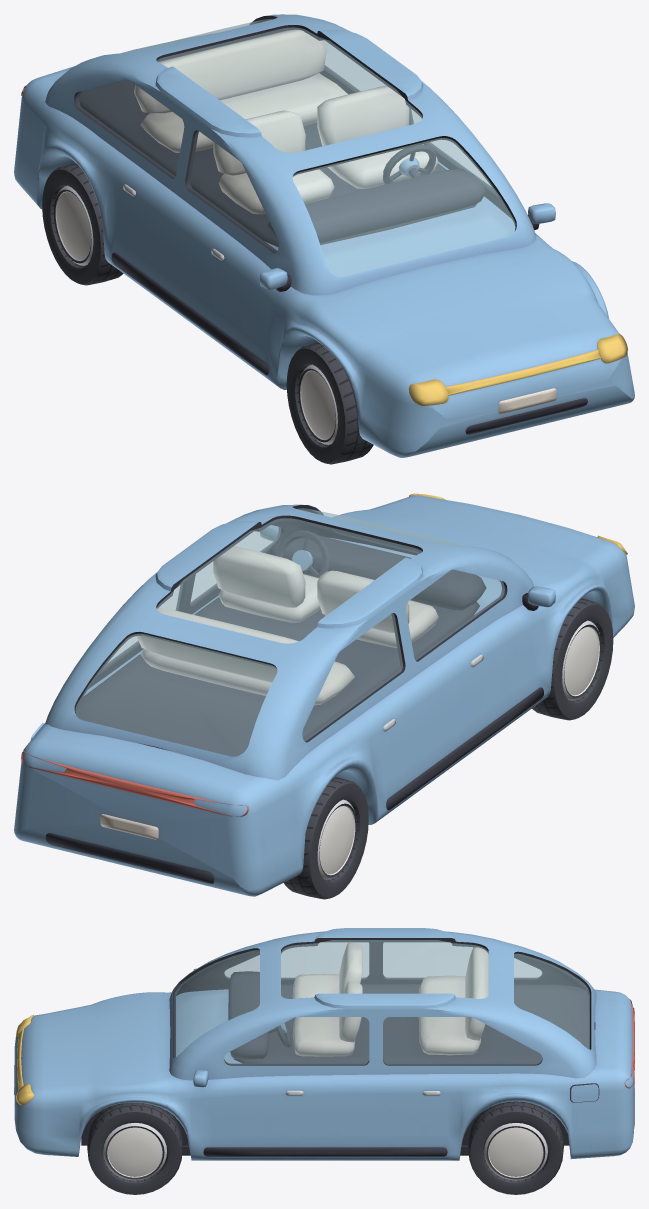
File: voltdragon.glb
3 renders of one model, top to bottom at view 1: azimuth 30°, elevation 25°; view 2: azimuth 150°, elevation 25°; view 3: azimuth 270°, elevation 25°, orthographic. The views are drawn at different scales.
Parts seen in each view (by area): view 1: electric-car_body, electric-car_windows, electric-car_wheel_fr, electric-car_wheel_rr; view 2: electric-car_body, electric-car_windows, electric-car_wheel_rr, electric-car_wheel_fr; view 3: electric-car_body, electric-car_windows, electric-car_wheel_rl, electric-car_wheel_fl, electric-car_charge_flap.
Part boxes in pixels (x1,y1,x2,y2): electric-car_body: [14, 14, 634, 457]; electric-car_windows: [76, 19, 515, 276]; electric-car_wheel_fr: [286, 342, 373, 464]; electric-car_wheel_rr: [42, 163, 123, 285]; electric-car_body: [14, 493, 634, 896]; electric-car_windows: [75, 508, 504, 756]; electric-car_wheel_rr: [284, 776, 368, 899]; electric-car_wheel_fr: [532, 598, 613, 720]; electric-car_body: [14, 928, 634, 1160]; electric-car_windows: [174, 940, 589, 1064]; electric-car_wheel_rl: [468, 1101, 563, 1194]; electric-car_wheel_fl: [87, 1102, 182, 1194]; electric-car_charge_flap: [571, 1084, 598, 1102].
Size of the model in its own units: 1.92 by 1.45 by 4.53.
Materials: 21 (5 with a texture image).
